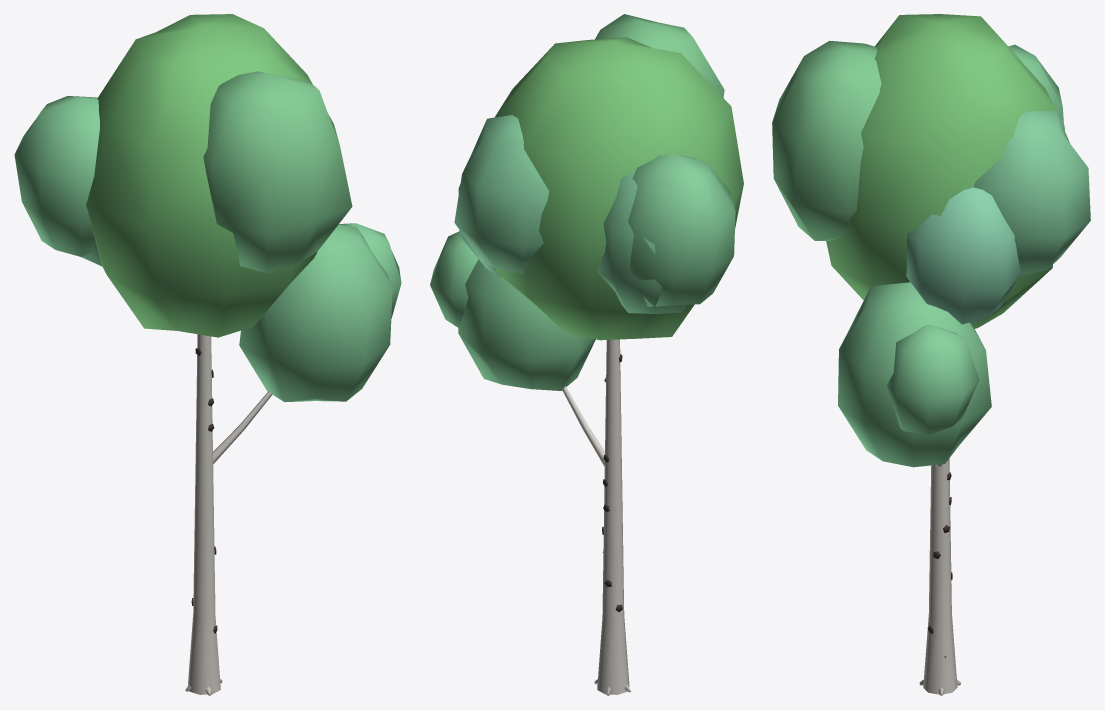
Rendered from flora_tree_silver_birch.gltf.
3 renders of one model, left to right at view 1: azimuth 30°, elevation 25°; view 2: azimuth 150°, elevation 25°; view 3: azimuth 270°, elevation 25°, orthographic. The views are drawn at different scales.
Visible parts, largest first — view 1: flora_tree_silver_birch; view 2: flora_tree_silver_birch; view 3: flora_tree_silver_birch.
Part boxes in pixels (bbox=[...]): flora_tree_silver_birch: bbox=[14, 14, 401, 695]; flora_tree_silver_birch: bbox=[430, 14, 743, 695]; flora_tree_silver_birch: bbox=[772, 14, 1090, 695].
Size of what is drawn, in the model's own units: 5.52 by 10.36 by 4.5.
